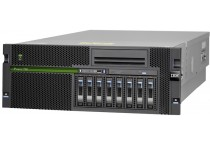ibm-server: (1, 27, 209, 120)
